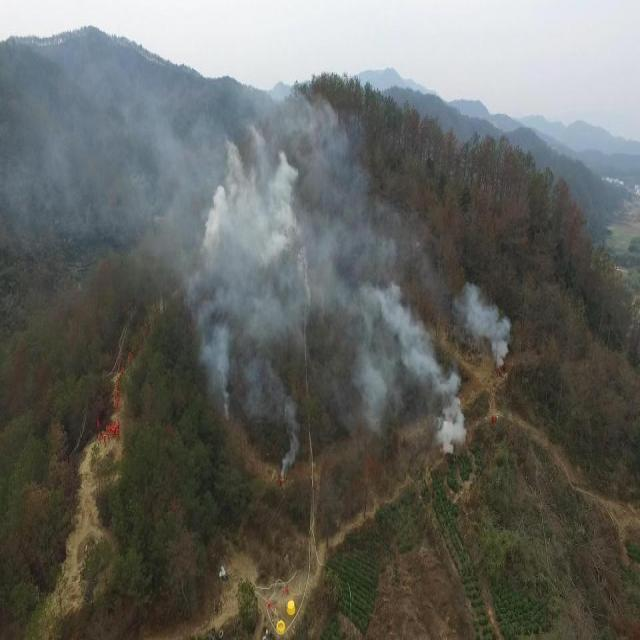Smoke: (49, 26, 209, 277), (204, 60, 303, 405), (301, 70, 362, 397), (357, 218, 438, 433), (454, 260, 534, 379), (420, 360, 475, 463), (274, 393, 304, 498)
